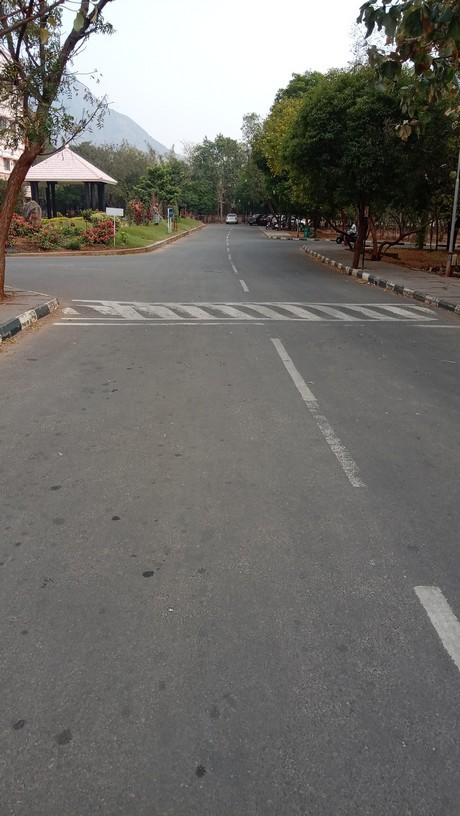bump: (53, 300, 438, 323)
